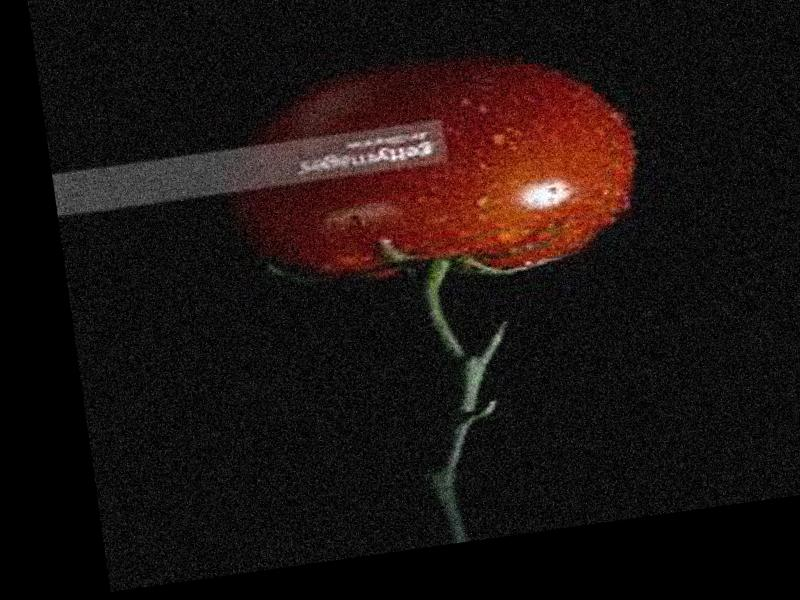Tomato: (231, 41, 646, 301)
